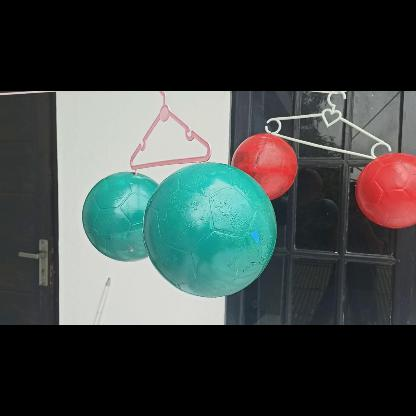red_ball: (358, 152, 415, 231)
